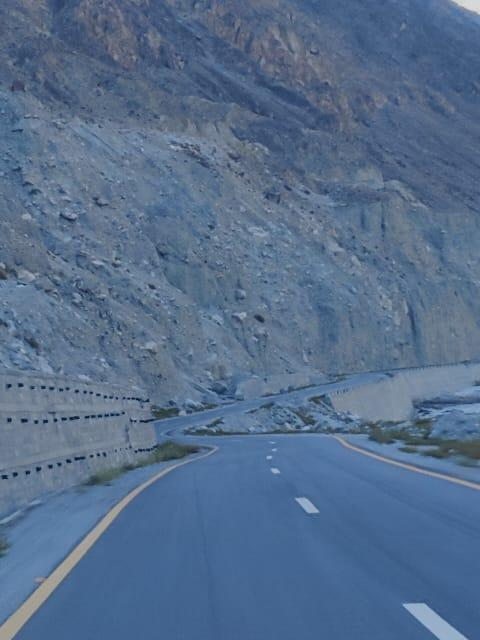left_turn: (192, 420, 347, 469)
